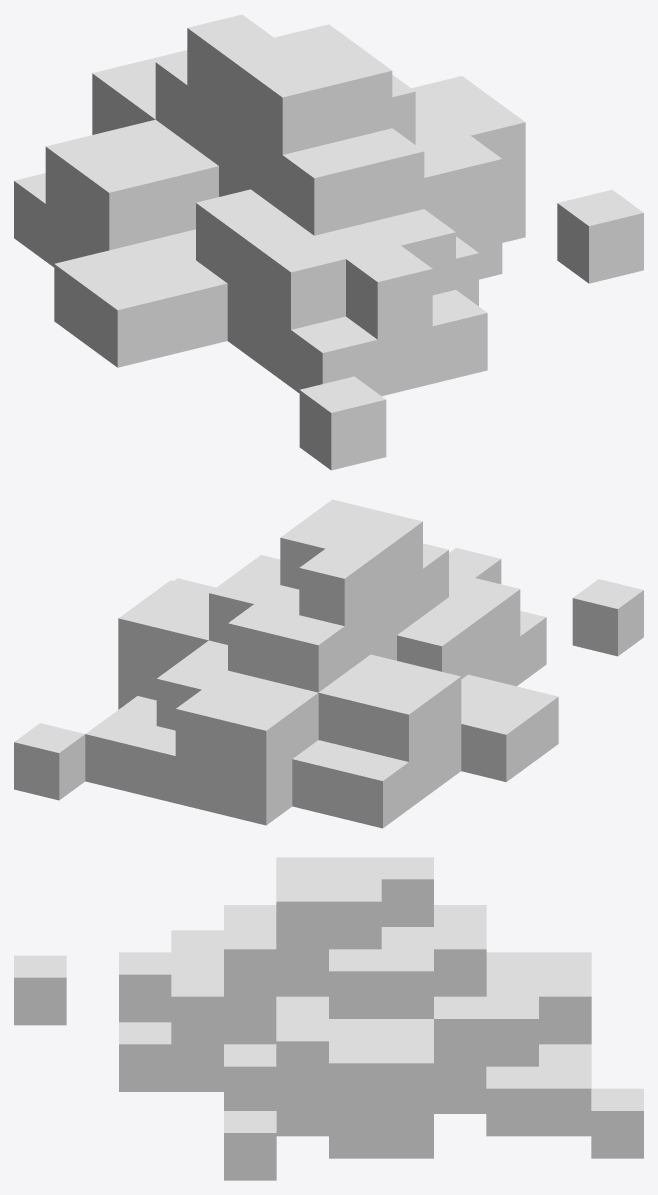
The model's file is MonteDeNeve.obj.
The picture shows the model from 3 angles, top to bottom: view 1: azimuth 30°, elevation 25°; view 2: azimuth 150°, elevation 25°; view 3: azimuth 270°, elevation 25°; orthographic projection. The views are drawn at different scales.
Size of the model in its own units: 9 by 4 by 12.
1 material, 1 textured.
